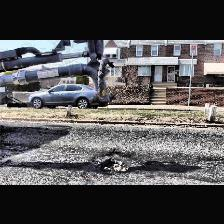pothole: (89, 148, 133, 176)
